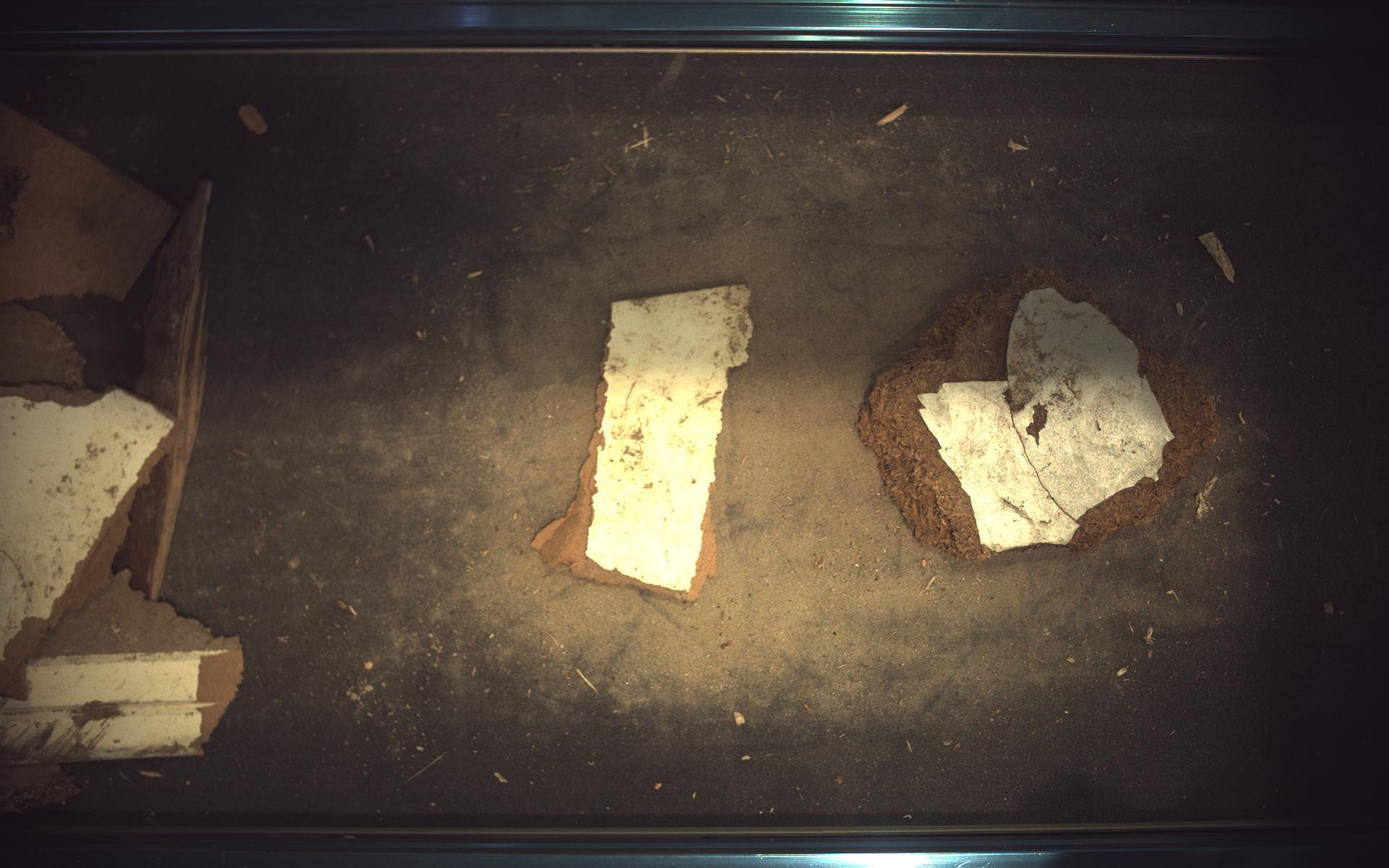wood: (859, 265, 1220, 561), (532, 284, 753, 602)
